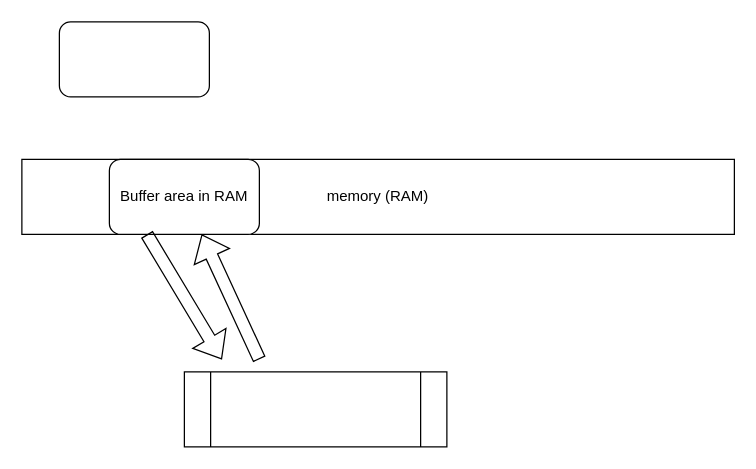
Some shapes in this 756 by 469 pixel diagram are drawn without their labels. Each missing label, with the centre of its shape:
CPU: (133,59)
Hardware (webcam): (315,409)
